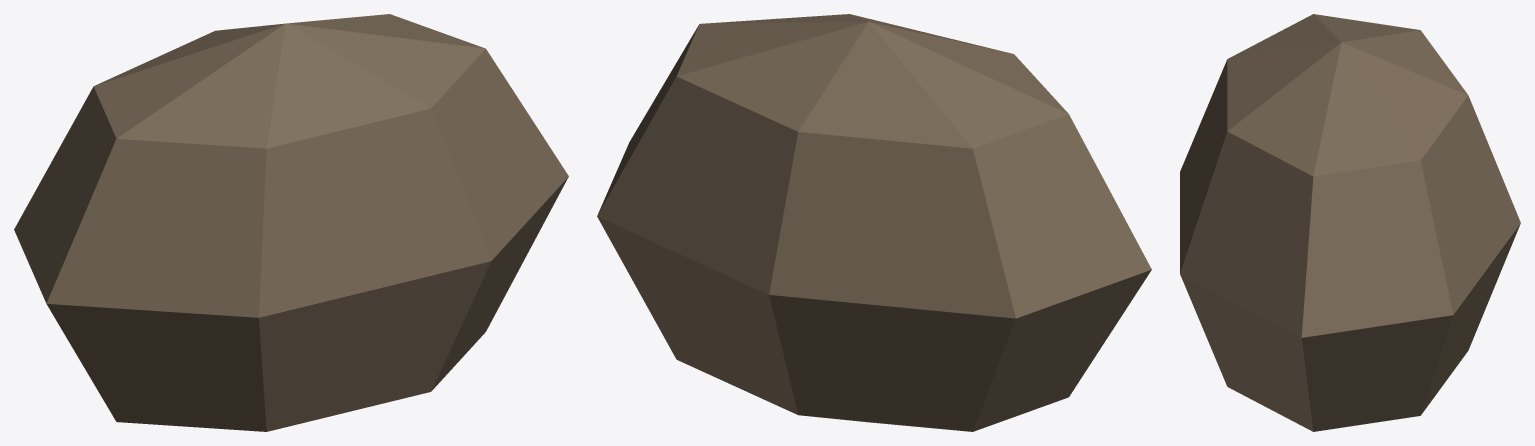
Rendered from beard.glb.
3 views of the same model, side by side, from view 1: azimuth 30°, elevation 25°; view 2: azimuth 150°, elevation 25°; view 3: azimuth 270°, elevation 25° (orthographic). The views are drawn at different scales.
Visible parts, largest first — view 1: beard; view 2: beard; view 3: beard.
Part boxes in pixels (x1,y1,x2,y2): beard: (14,14,568,431); beard: (597,14,1151,431); beard: (1180,14,1520,431).
Bounding box in the file's own units: 0.273 × 0.2 × 0.1711.
